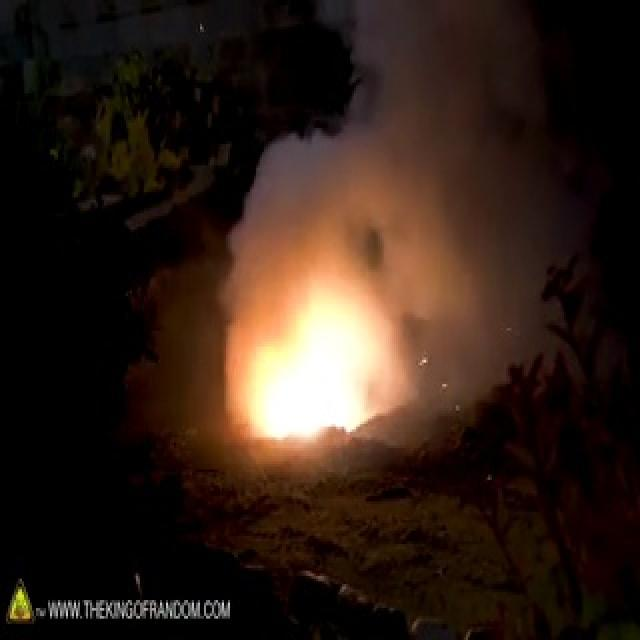fire: (242, 246, 408, 446)
